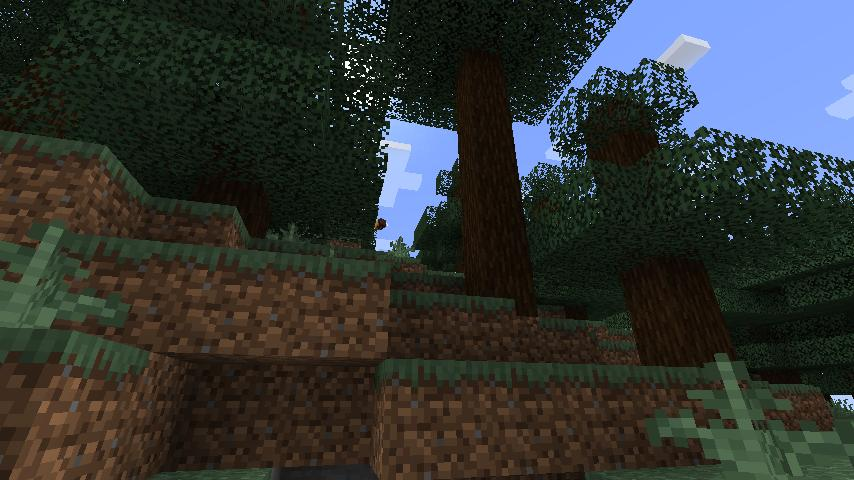bee: (374, 217, 389, 232)
